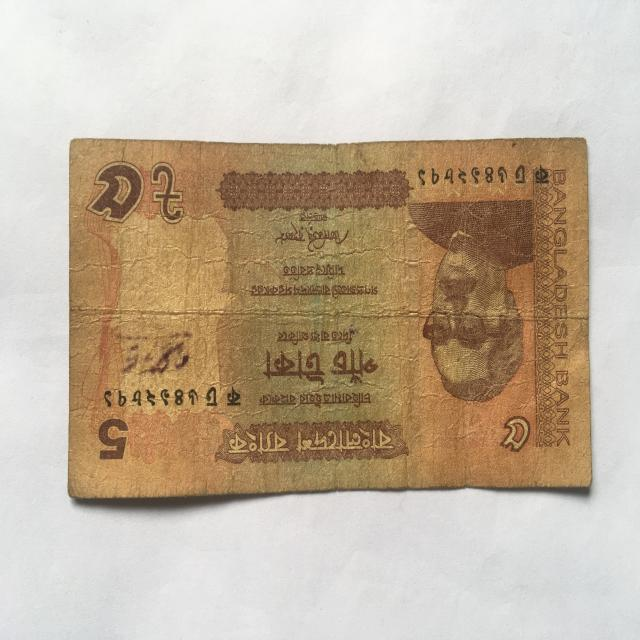Taka: (62, 128, 595, 494)
